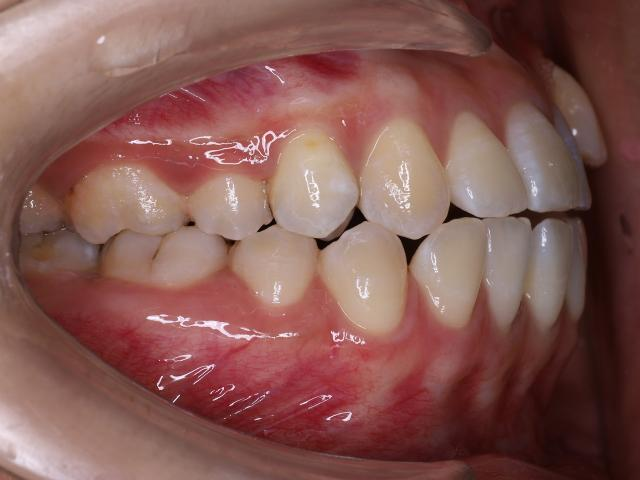canine class II 1/4: (317, 100, 489, 344)
molar class I: (56, 157, 232, 303)
